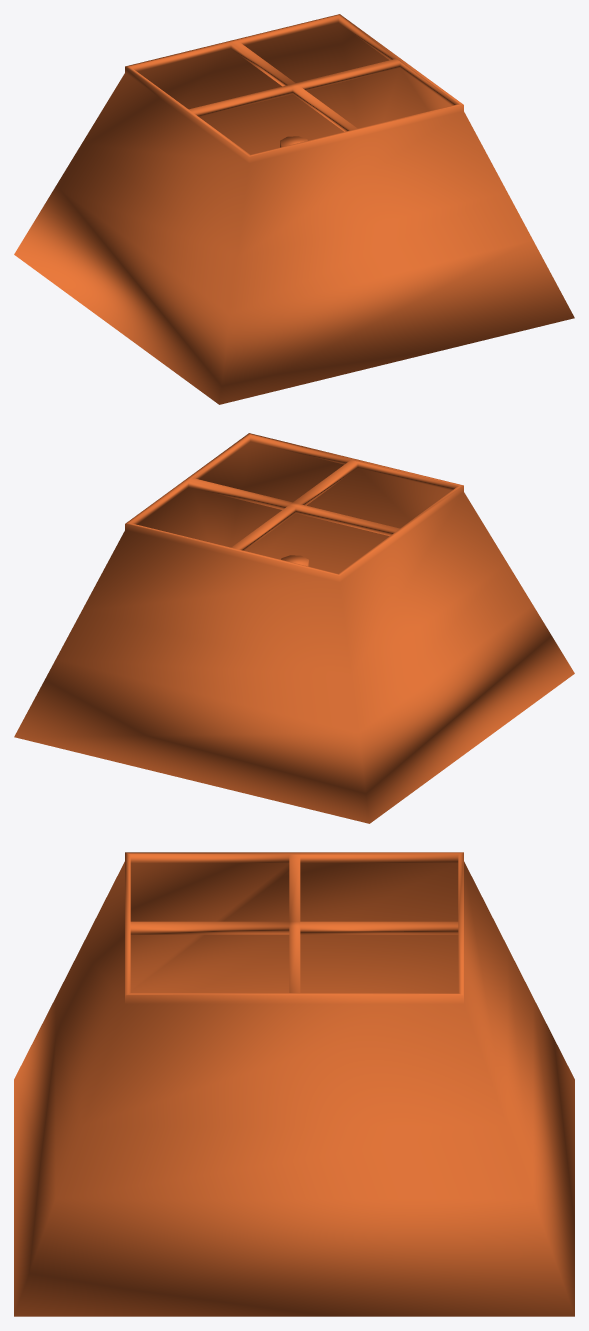
Rendered from Bar_Lamp.fbx.
3 renders of one model, top to bottom at view 1: azimuth 30°, elevation 25°; view 2: azimuth 150°, elevation 25°; view 3: azimuth 270°, elevation 25°, orthographic. The views are drawn at different scales.
Visible parts, largest first — view 1: Lamp001; view 2: Lamp001; view 3: Lamp001.
Boxes of the visible parts, left/top/right/bottom form: Lamp001: left=14, top=14, right=574, bottom=404; Lamp001: left=14, top=433, right=574, bottom=823; Lamp001: left=14, top=852, right=574, bottom=1316.
Bounding box in the file's own units: 4785 × 2581 × 4785.
